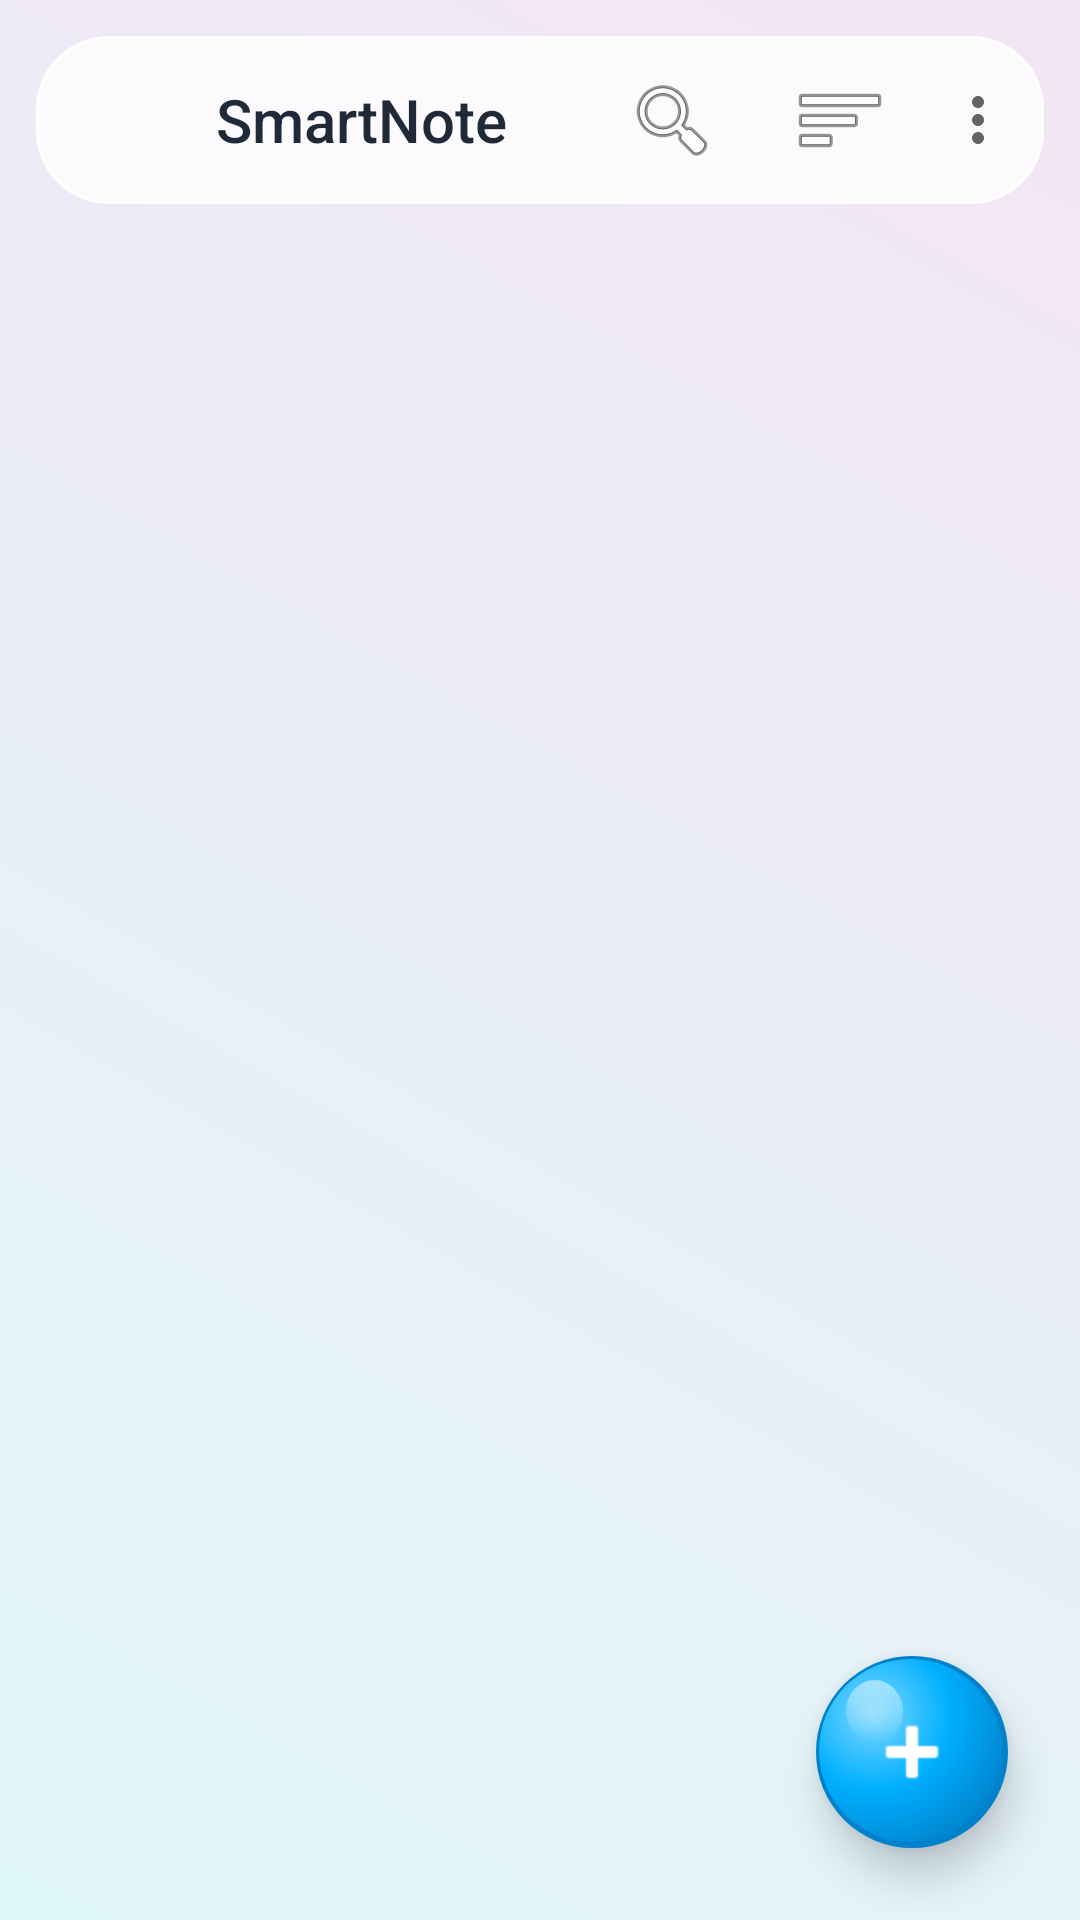

Icons on this 1080*1920 Android screen, each with the point to tap as point (x, y):
Add Note: point (912, 1752)
